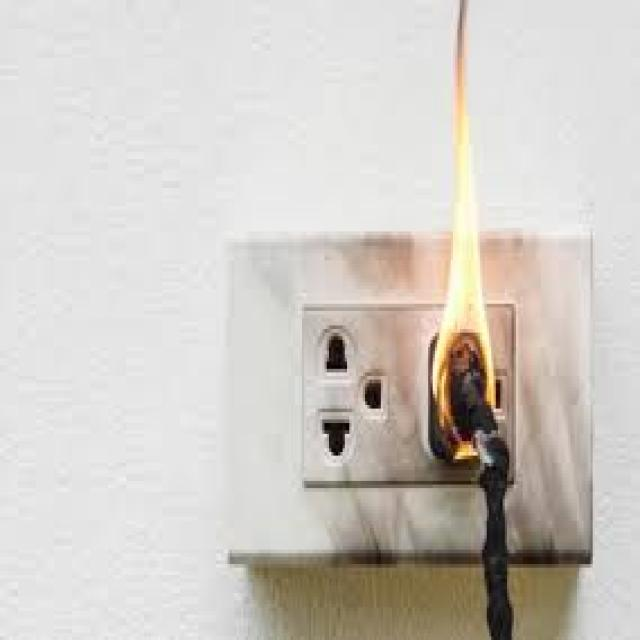fire: (442, 11, 507, 462)
